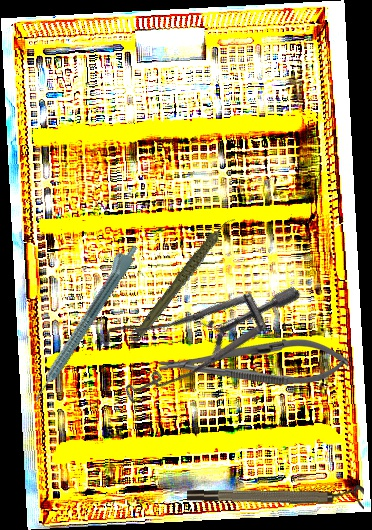Fixation Ring: (186, 478, 365, 511)
Handpiece: (23, 239, 142, 404), (115, 215, 258, 339)
Needle Holder: (158, 337, 349, 388)
Speculum: (78, 210, 303, 442)
